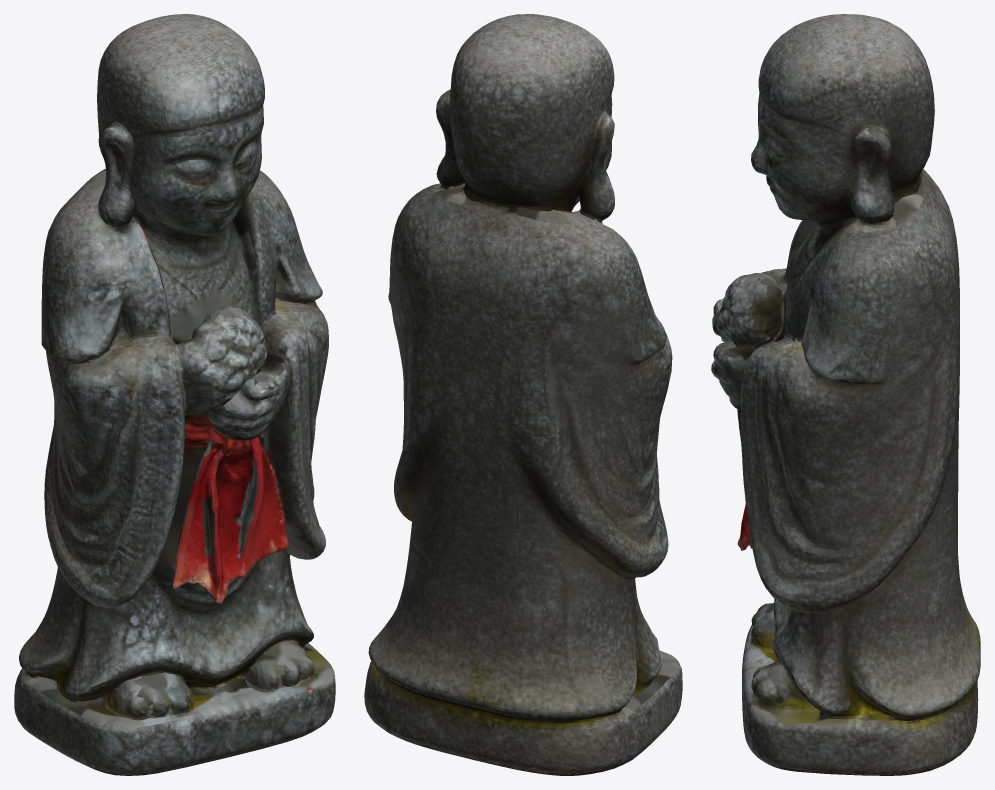
The model's file is traveler_env_coast_cakon_paddy_jizo_00001_.glb.
3 renders of one model, left to right at view 1: azimuth 30°, elevation 25°; view 2: azimuth 150°, elevation 25°; view 3: azimuth 270°, elevation 25°, orthographic.
Parts seen in each view (by area): view 1: temp_mesh.ply; view 2: temp_mesh.ply; view 3: temp_mesh.ply.
Part boxes in pixels (<box>): temp_mesh.ply: <box>14,14,335,775</box>; temp_mesh.ply: <box>364,14,682,775</box>; temp_mesh.ply: <box>711,14,980,775</box>.
Bounding box in the file's own units: 0.7852 × 1.97 × 0.6947.
1 material, 1 textured.
